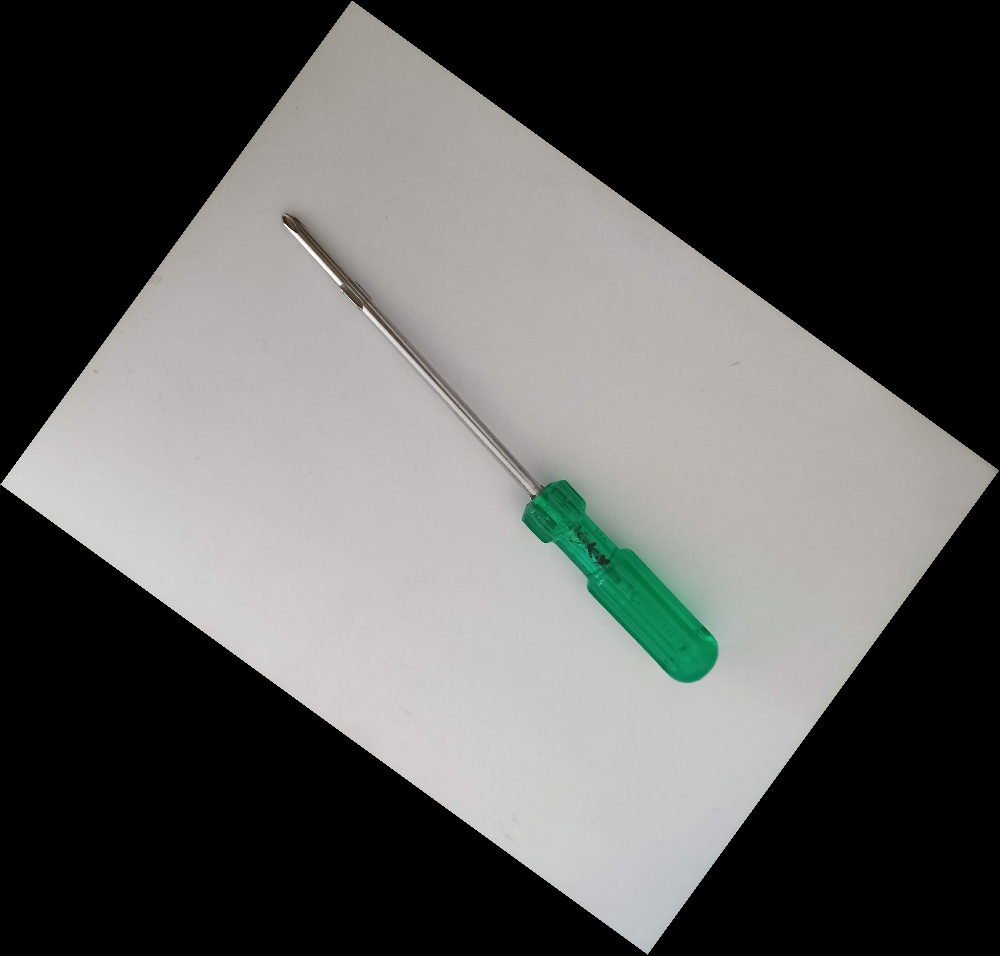screwdriver: (276, 207, 721, 685)
